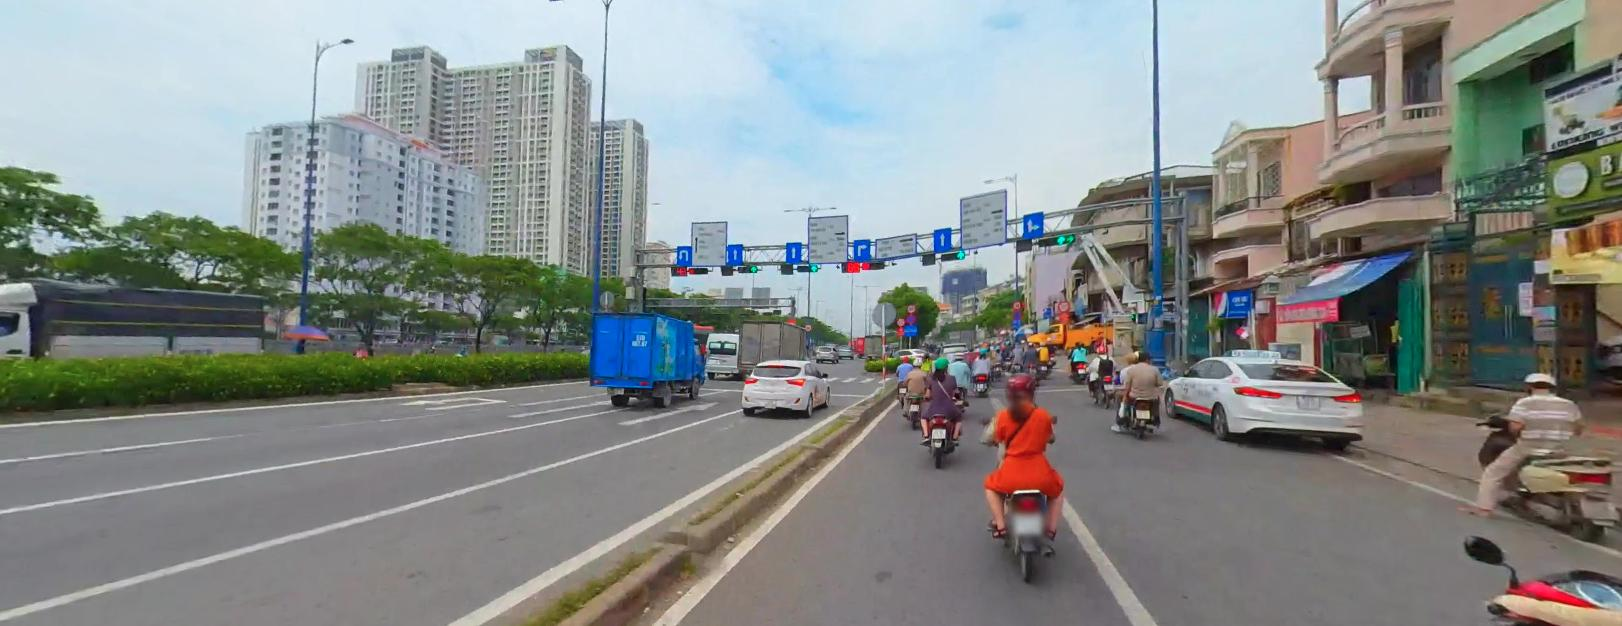Cam con lai: (1058, 300, 1070, 310), (1012, 299, 1022, 307), (906, 303, 916, 311), (896, 316, 904, 324), (804, 322, 812, 329)
Cam dung va do: (905, 312, 917, 323), (1013, 309, 1021, 317)
